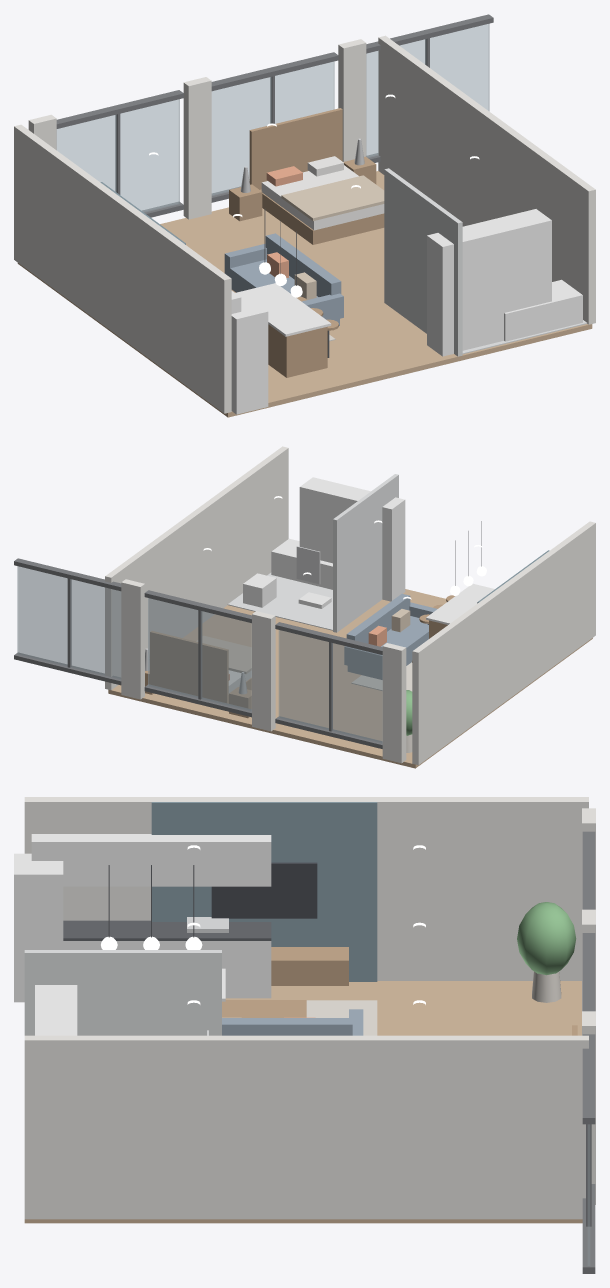
File: msk-flat-1.glb
3 views of the same model, one above another, from view 1: azimuth 30°, elevation 25°; view 2: azimuth 150°, elevation 25°; view 3: azimuth 270°, elevation 25° (orthographic). The views are drawn at different scales.
Size of the model in its own units: 10.48 by 2.9 by 8.25.
